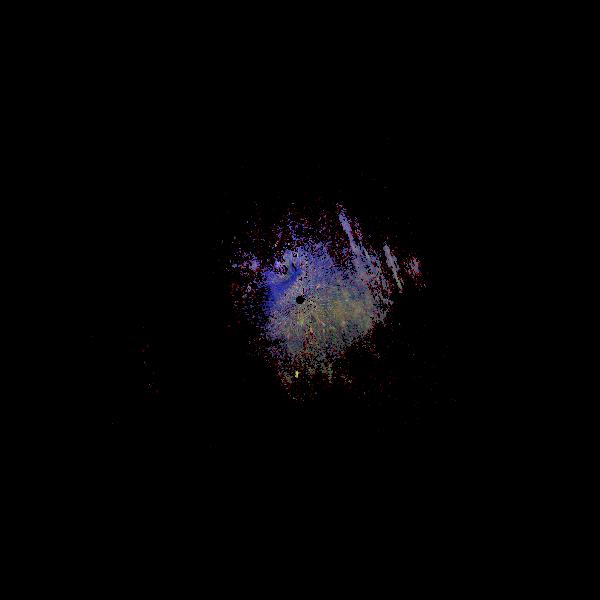roost: (296, 372, 302, 378)
